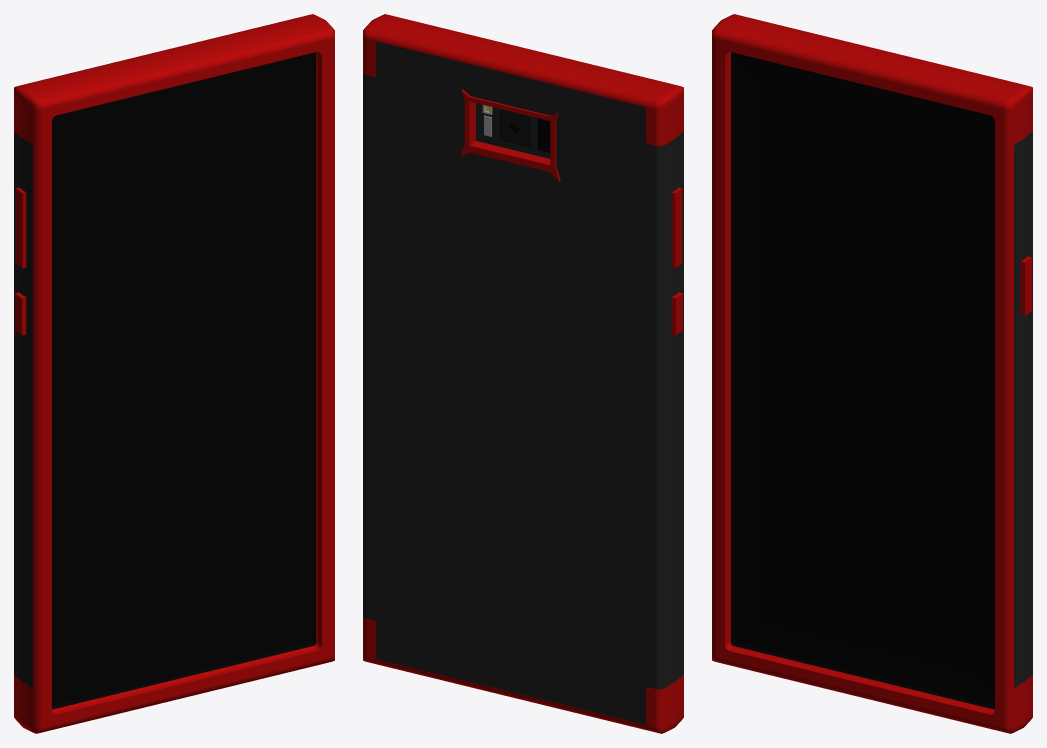
Rendered from player_phone.fbx.
3 views of the same model, side by side, from view 1: azimuth 30°, elevation 25°; view 2: azimuth 150°, elevation 25°; view 3: azimuth 330°, elevation 25° (orthographic).
Visible parts, largest first — view 1: phone; view 2: phone; view 3: phone.
Part boxes in pixels (left/top/right/bottom): phone: left=14, top=14, right=334, bottom=733; phone: left=363, top=14, right=683, bottom=733; phone: left=712, top=14, right=1032, bottom=733.
Bounding box in the file's own units: 7.19 × 14 × 1.05.
